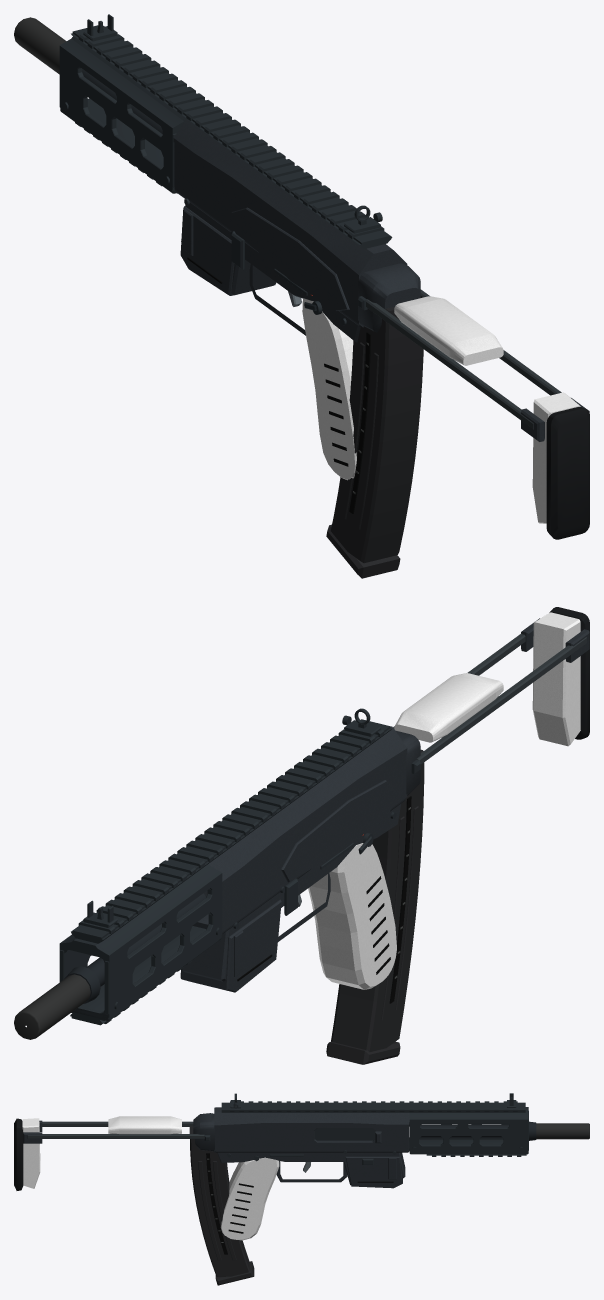
Rendered from weapon-76-UdGyY0hY.glb.
3 renders of one model, top to bottom at view 1: azimuth 30°, elevation 25°; view 2: azimuth 150°, elevation 25°; view 3: azimuth 270°, elevation 25°, orthographic. The views are drawn at different scales.
Parts seen in each view (by area): view 1: salient_weapon_body, salient_weapon_stock, salient_weapon_magazine, salient_weapon_iron; view 2: salient_weapon_body, salient_weapon_stock, salient_weapon_magazine, salient_weapon_iron; view 3: salient_weapon_body, salient_weapon_stock, salient_weapon_magazine.
Boxes of the visible parts, x1,y1,x2,y2 form: salient_weapon_body: [14, 17, 407, 480]; salient_weapon_stock: [358, 263, 589, 539]; salient_weapon_magazine: [326, 306, 423, 578]; salient_weapon_iron: [83, 14, 382, 233]; salient_weapon_body: [14, 719, 407, 1039]; salient_weapon_stock: [393, 607, 589, 795]; salient_weapon_magazine: [326, 749, 424, 1064]; salient_weapon_iron: [83, 708, 380, 927]; salient_weapon_body: [214, 1101, 589, 1240]; salient_weapon_stock: [14, 1113, 214, 1190]; salient_weapon_magazine: [189, 1126, 254, 1285].
Bounding box in the file's own units: 0.039 × 0.2186 × 0.61.
Materials: 19 (4 with a texture image).
